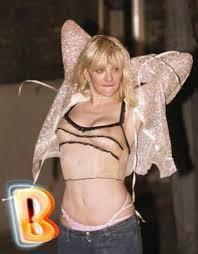Drunk: (90, 58, 122, 93)
